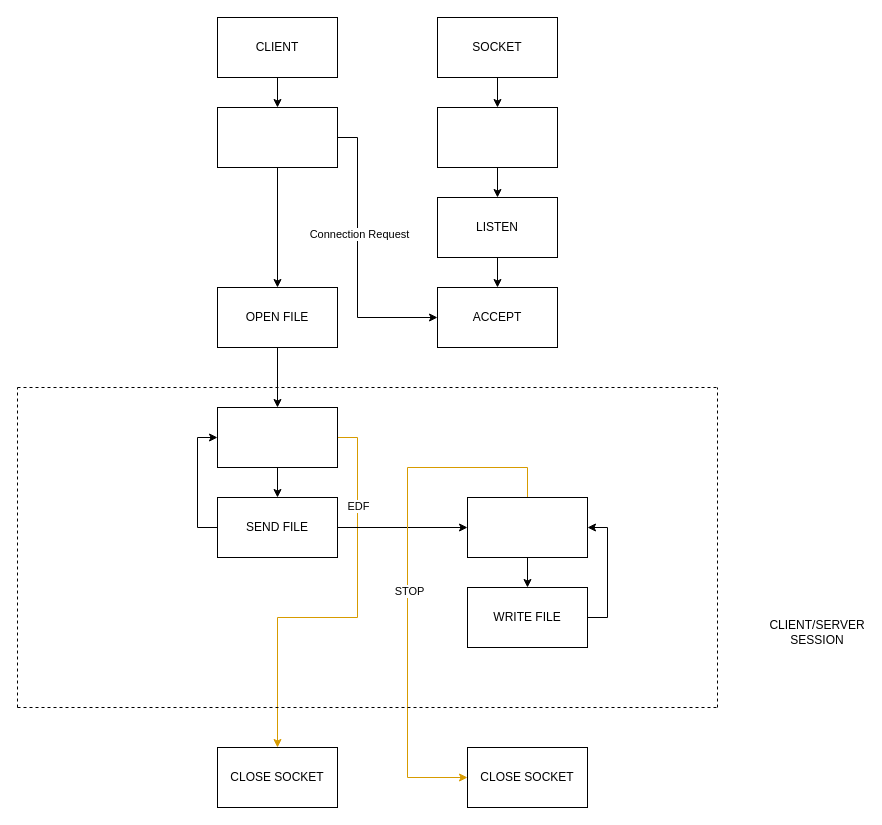
Some shapes in this 882 by 825 pixel diagram are drawn without their labels. Each missing label, with the centre of its shape:
"BIND" goes at (497,137).
"CONNECT" goes at (277,137).
"READ FILE" goes at (277,437).
"RECEIVE FILE" goes at (527,527).
